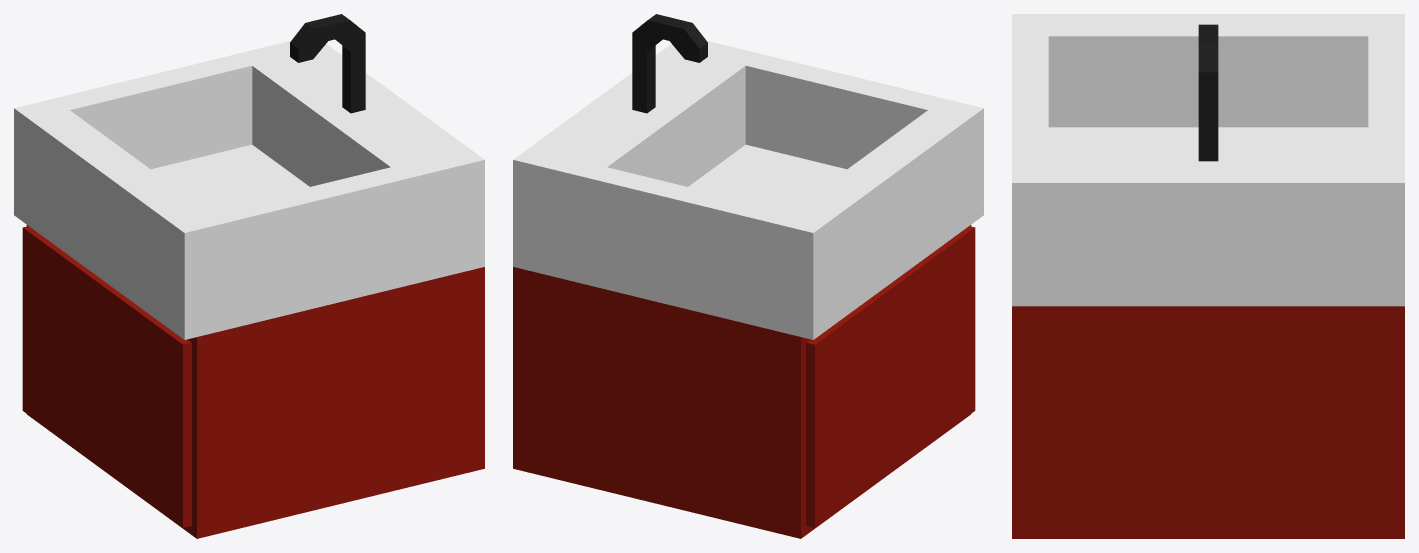
File: SM_KitchenSink_01.fbx
The picture shows the model from 3 angles, left to right: view 1: azimuth 30°, elevation 25°; view 2: azimuth 150°, elevation 25°; view 3: azimuth 270°, elevation 25°; orthographic projection. The views are drawn at different scales.
Parts seen in each view (by area): view 1: SM_KitchenSink_01; view 2: SM_KitchenSink_01; view 3: SM_KitchenSink_01.
Part boxes in pixels (bbox=[...]): SM_KitchenSink_01: bbox=[14, 14, 484, 538]; SM_KitchenSink_01: bbox=[513, 14, 983, 538]; SM_KitchenSink_01: bbox=[1012, 14, 1404, 538].
Size of the model in its own units: 40.04 by 51.27 by 39.37.
